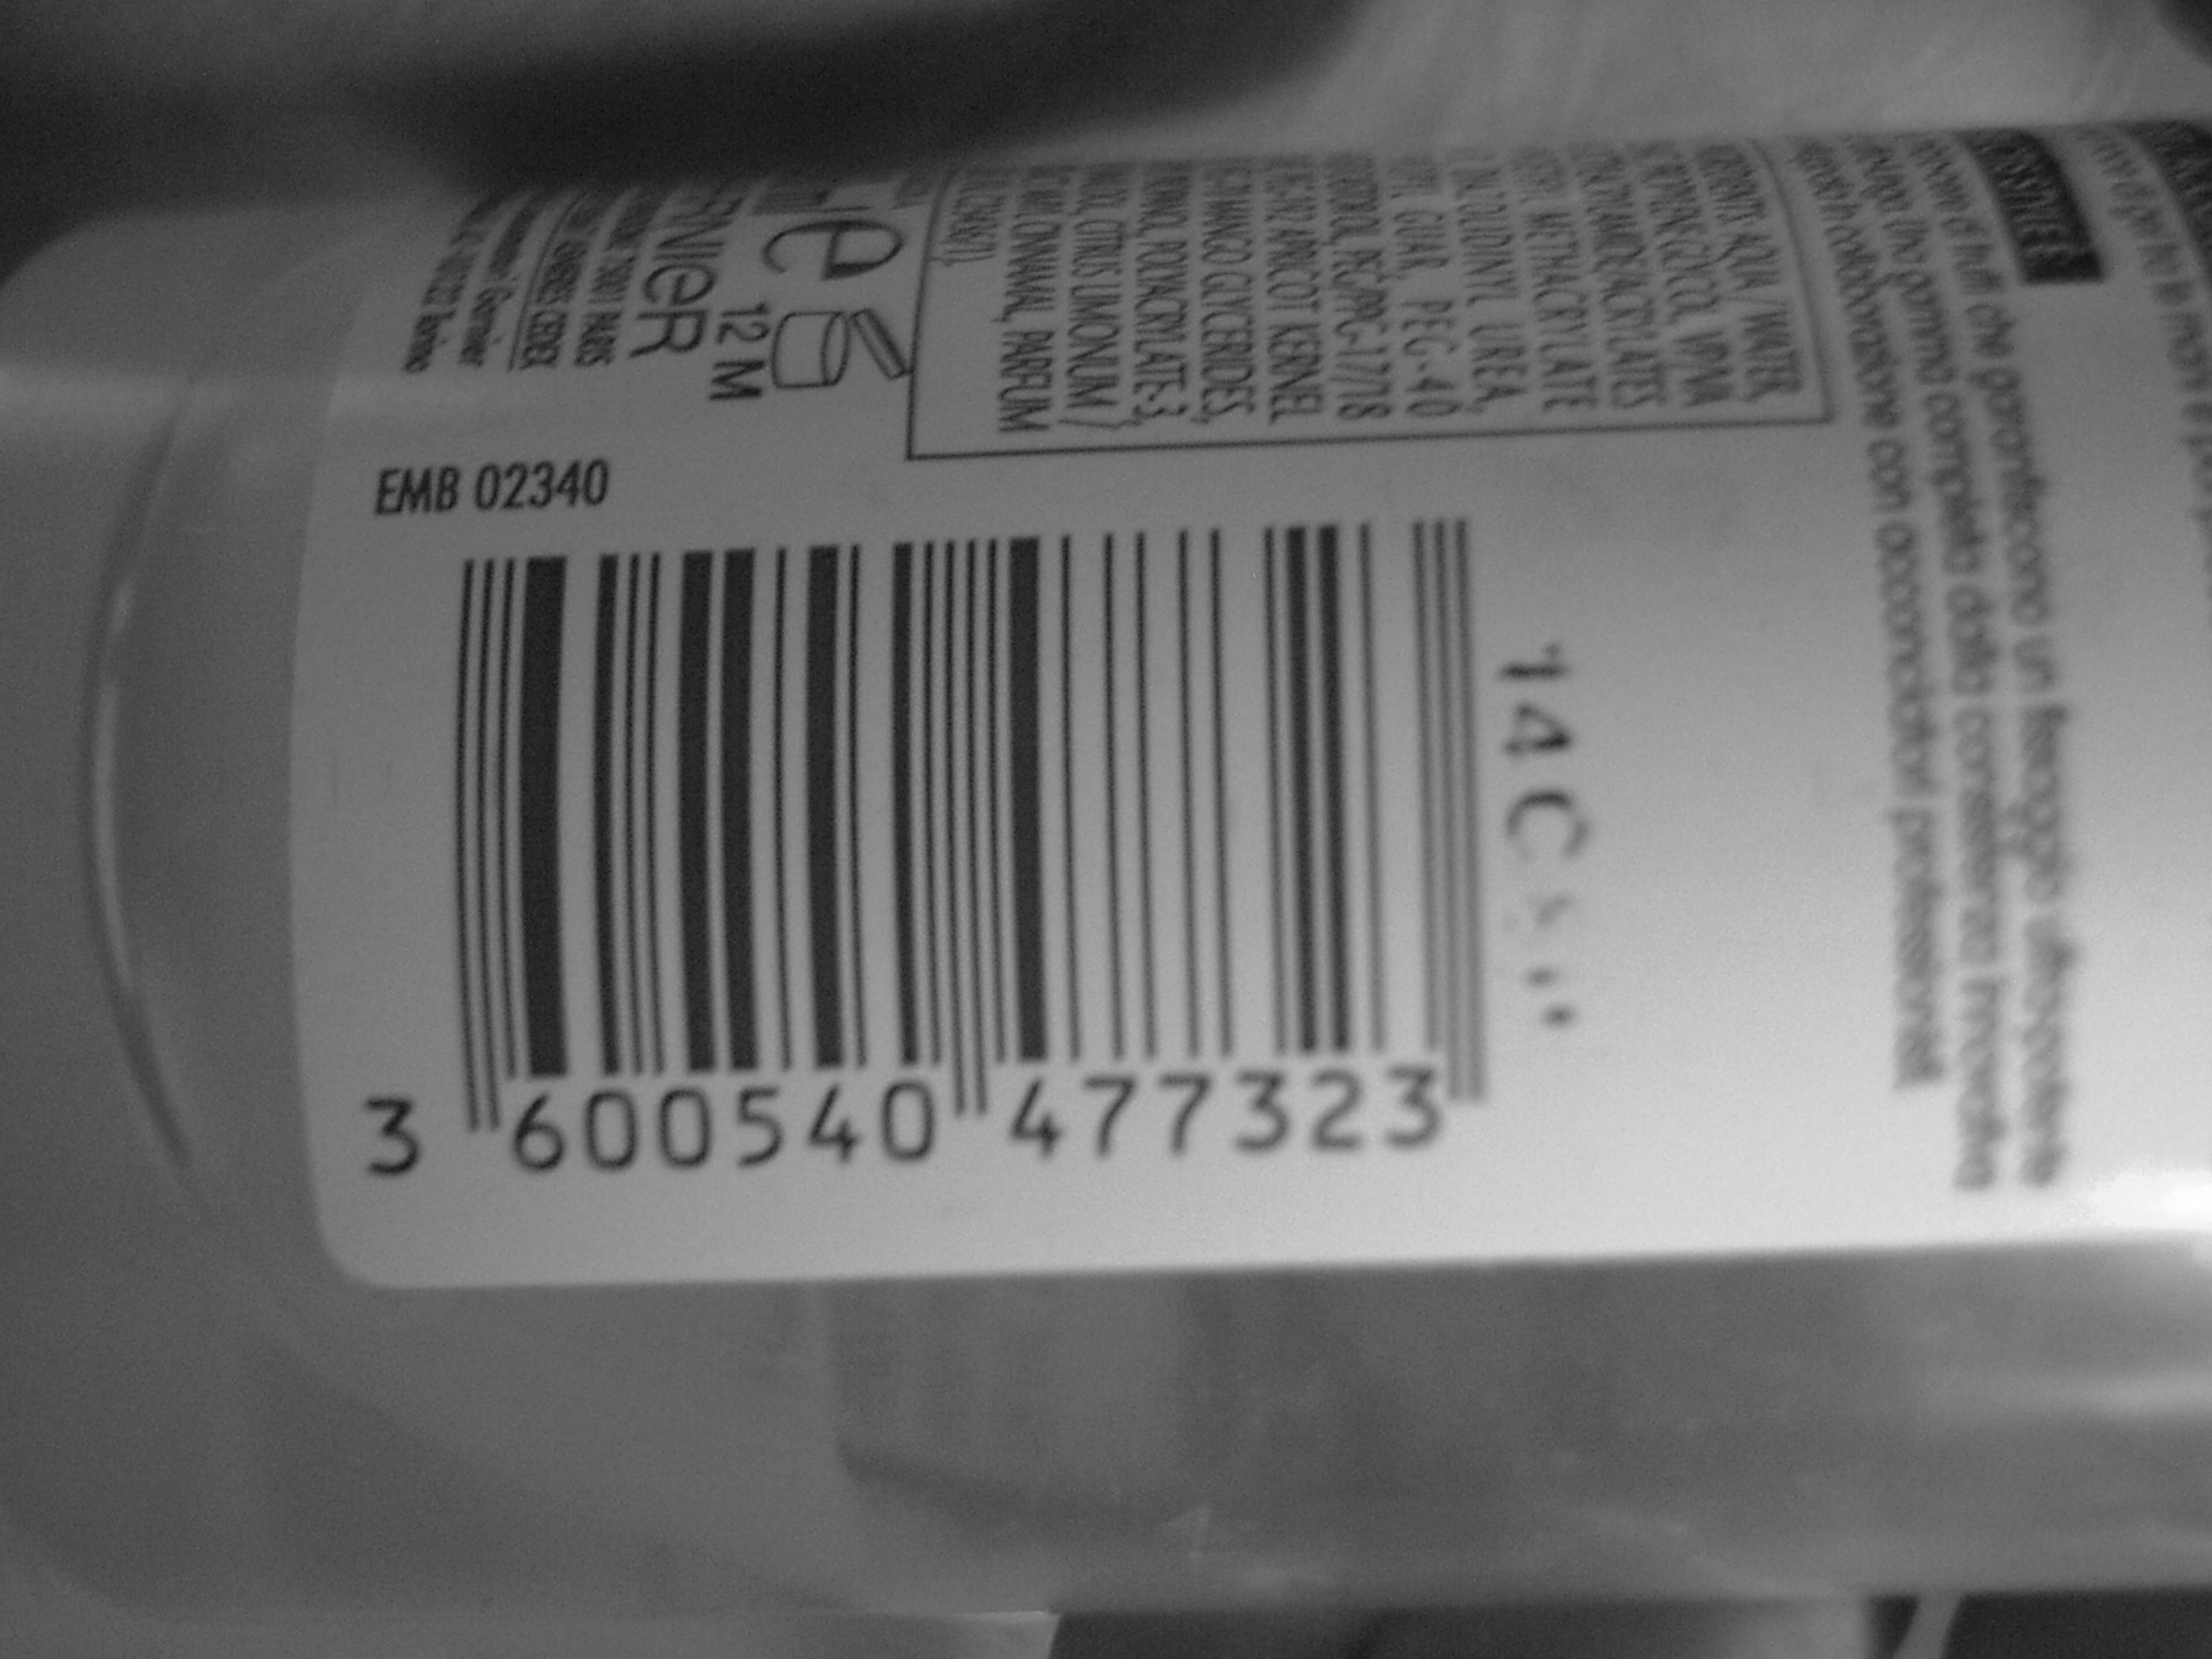Barcode: (410, 498, 1499, 1151)
